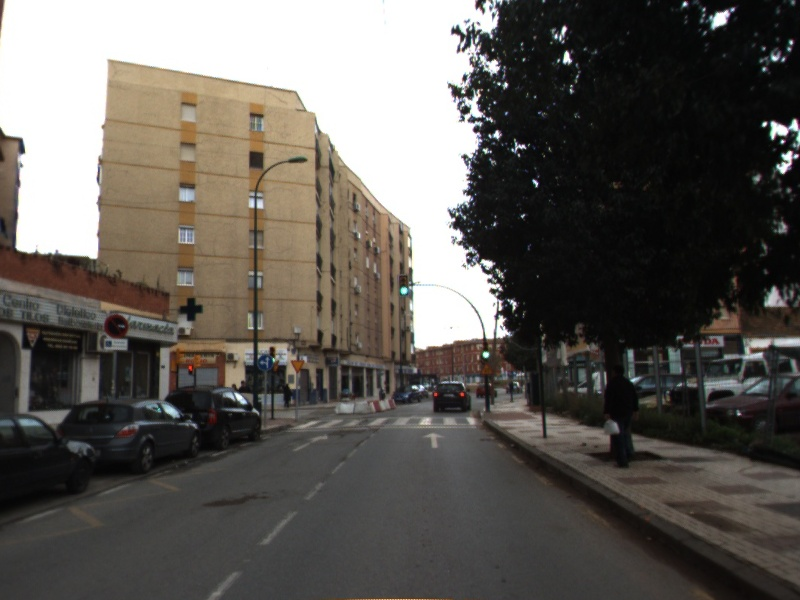STRAIGHT: (290, 431, 330, 453), (420, 431, 448, 450)
